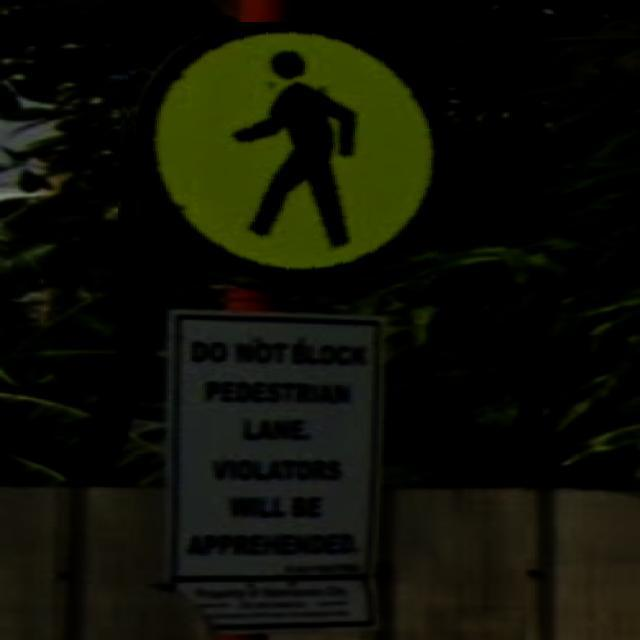pedestrian crossing: (118, 22, 438, 288)
